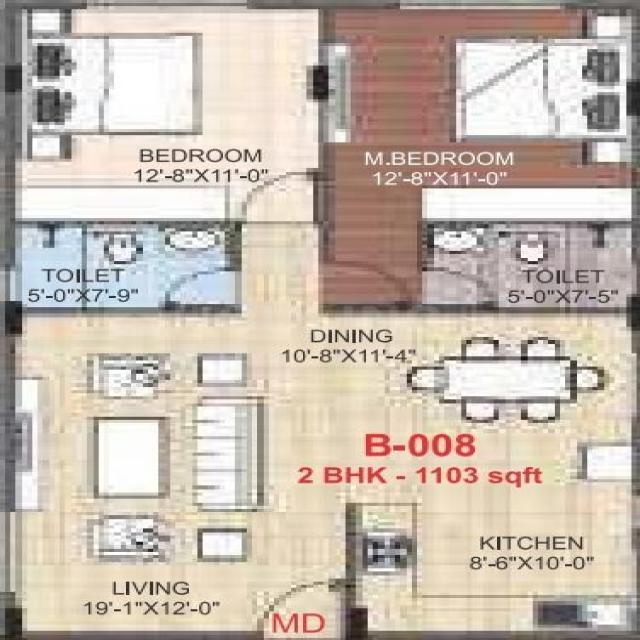Bedroom: (14, 7, 322, 220)
Bedroom with Toilet: (327, 7, 633, 311)
Dining: (402, 330, 623, 433)
Enterance-Foyer: (258, 581, 346, 637)
Kitchen: (353, 503, 631, 630)
Living: (24, 314, 342, 629)
Toilet: (11, 224, 234, 309), (432, 226, 632, 304)
